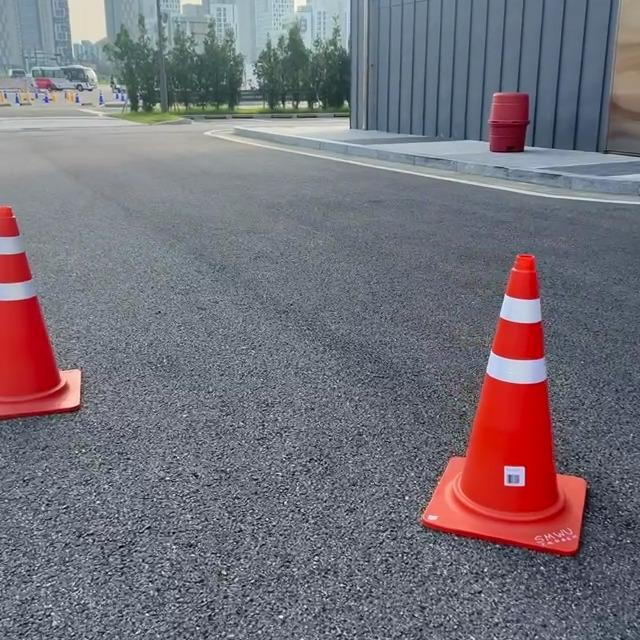fallen_object: (363, 199, 640, 640), (0, 194, 128, 492)
